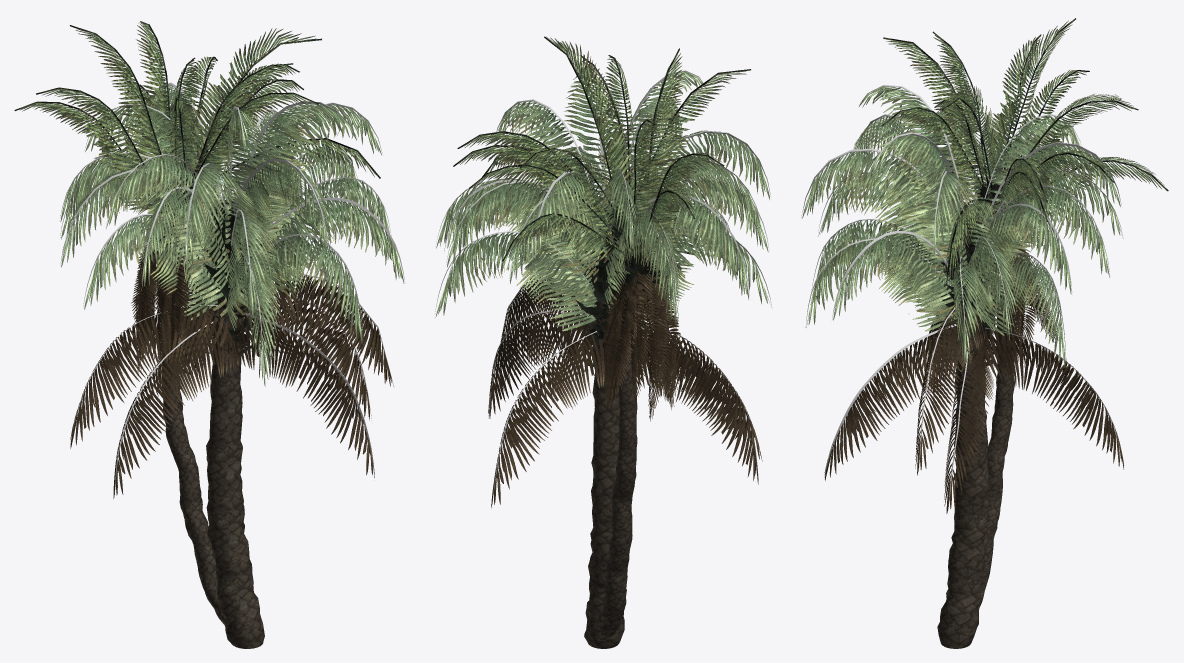
The model's file is palm_trees.glb.
3 renders of one model, left to right at view 1: azimuth 30°, elevation 25°; view 2: azimuth 150°, elevation 25°; view 3: azimuth 270°, elevation 25°, orthographic. The views are drawn at different scales.
Visible parts, largest first — view 1: palm_a, palm_b; view 2: palm_a, palm_b; view 3: palm_a, palm_b.
Boxes of the visible parts, left/top/right/bottom form: palm_a: left=60, top=82, right=405, bottom=648; palm_b: left=14, top=21, right=380, bottom=625; palm_a: left=435, top=64, right=771, bottom=648; palm_b: left=453, top=36, right=750, bottom=636; palm_a: left=801, top=85, right=1124, bottom=648; palm_b: left=882, top=18, right=1168, bottom=606.
Size of the model in its own units: 6.55 by 12 by 6.83.
Materials: 10 (9 with a texture image).
